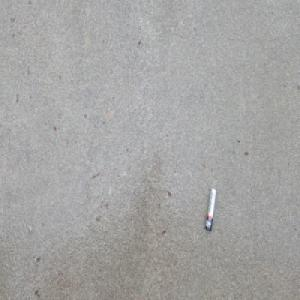Battery: (203, 185, 217, 232)
